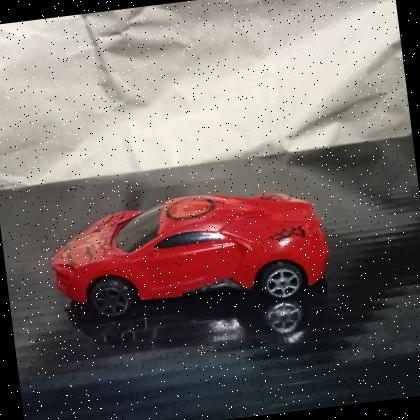Car: (40, 172, 339, 332)
